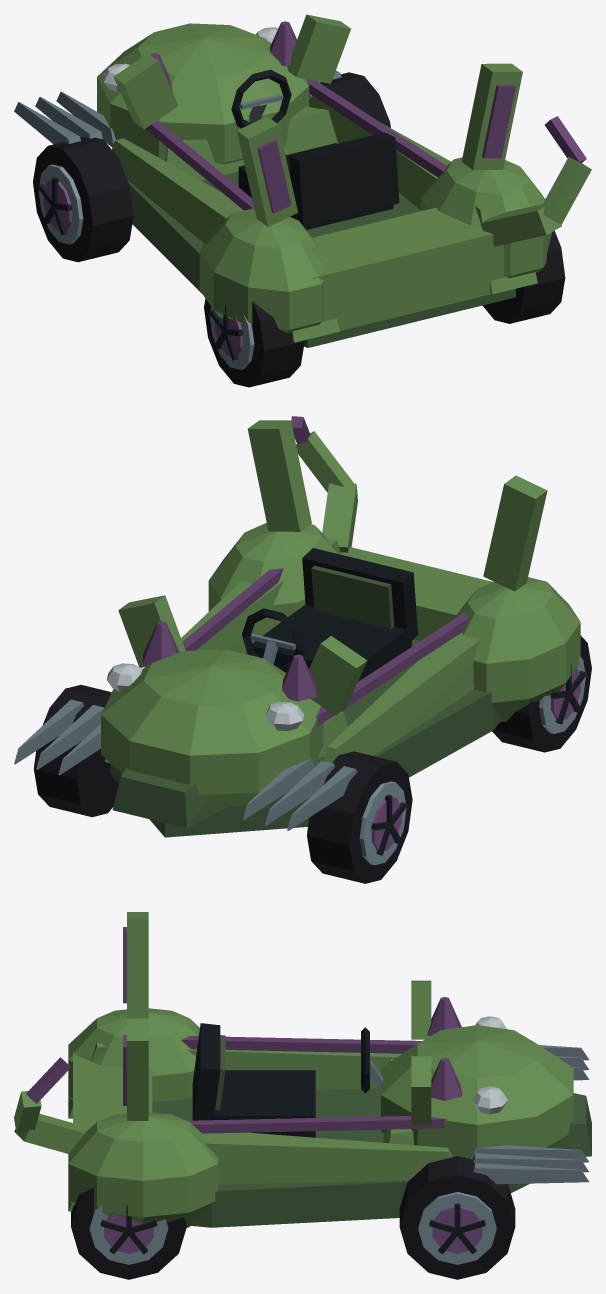
Rendered from kart.glb.
The picture shows the model from 3 angles, top to bottom: view 1: azimuth 30°, elevation 25°; view 2: azimuth 150°, elevation 25°; view 3: azimuth 270°, elevation 25°; orthographic projection. The views are drawn at different scales.
Parts seen in each view (by area): view 1: identity-beast-beast-sculpted-prow-and-haunches, identity-beast-driver-cockpit, wheel-front-left, identity-beast-motif-ears, wheel-rear-left, identity-beast-motif-tail, identity-beast-motif-claws, wheel-rear-right, wheel-front-right; view 2: identity-beast-beast-sculpted-prow-and-haunches, identity-beast-driver-cockpit, wheel-front-left, identity-beast-motif-ears, identity-beast-motif-claws, wheel-front-right, wheel-rear-left, identity-beast-motif-tail; view 3: identity-beast-beast-sculpted-prow-and-haunches, wheel-front-right, identity-beast-driver-cockpit, wheel-rear-right, identity-beast-motif-ears, identity-beast-motif-claws, identity-beast-motif-tail.
Boxes of the visible parts, bbox=[...] form: identity-beast-beast-sculpted-prow-and-haunches: bbox=[97, 14, 552, 347]; identity-beast-driver-cockpit: bbox=[231, 69, 399, 229]; wheel-front-left: bbox=[33, 137, 133, 262]; identity-beast-motif-ears: bbox=[237, 63, 522, 226]; wheel-rear-left: bbox=[204, 298, 304, 387]; identity-beast-motif-tail: bbox=[480, 116, 591, 246]; identity-beast-motif-claws: bbox=[14, 70, 341, 147]; wheel-rear-right: bbox=[482, 231, 565, 323]; wheel-front-right: bbox=[309, 72, 390, 127]; identity-beast-beast-sculpted-prow-and-haunches: bbox=[101, 523, 580, 837]; identity-beast-driver-cockpit: bbox=[242, 548, 417, 681]; wheel-front-left: bbox=[307, 751, 412, 883]; identity-beast-motif-ears: bbox=[247, 420, 547, 591]; identity-beast-motif-claws: bbox=[14, 699, 357, 830]; wheel-front-right: bbox=[33, 685, 118, 817]; wheel-rear-left: bbox=[492, 635, 591, 752]; identity-beast-motif-tail: bbox=[291, 416, 357, 552]; identity-beast-beast-sculpted-prow-and-haunches: bbox=[68, 980, 591, 1227]; wheel-front-right: bbox=[399, 1156, 515, 1279]; identity-beast-driver-cockpit: bbox=[192, 1023, 382, 1137]; wheel-rear-right: bbox=[71, 1188, 186, 1279]; identity-beast-motif-ears: bbox=[123, 912, 148, 1120]; identity-beast-motif-claws: bbox=[469, 1045, 589, 1184]; identity-beast-motif-tail: bbox=[14, 1057, 88, 1153].
Size of the model in its own units: 2.01 by 1.46 by 3.2.
